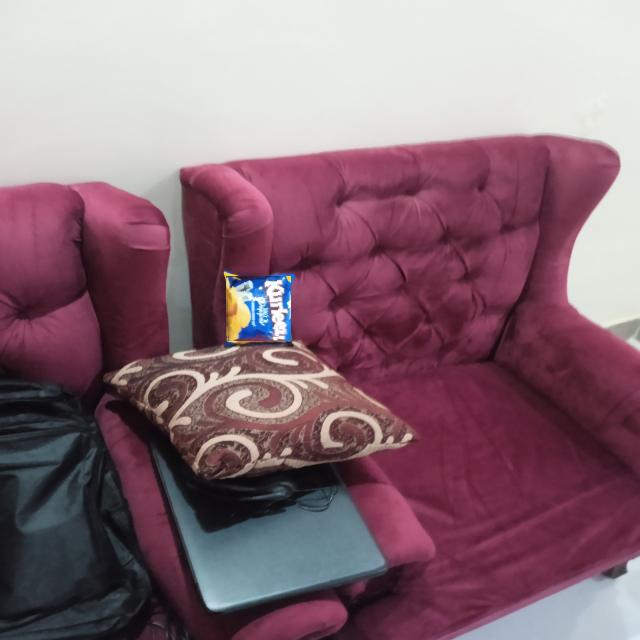Plastic: (226, 276, 291, 341)
